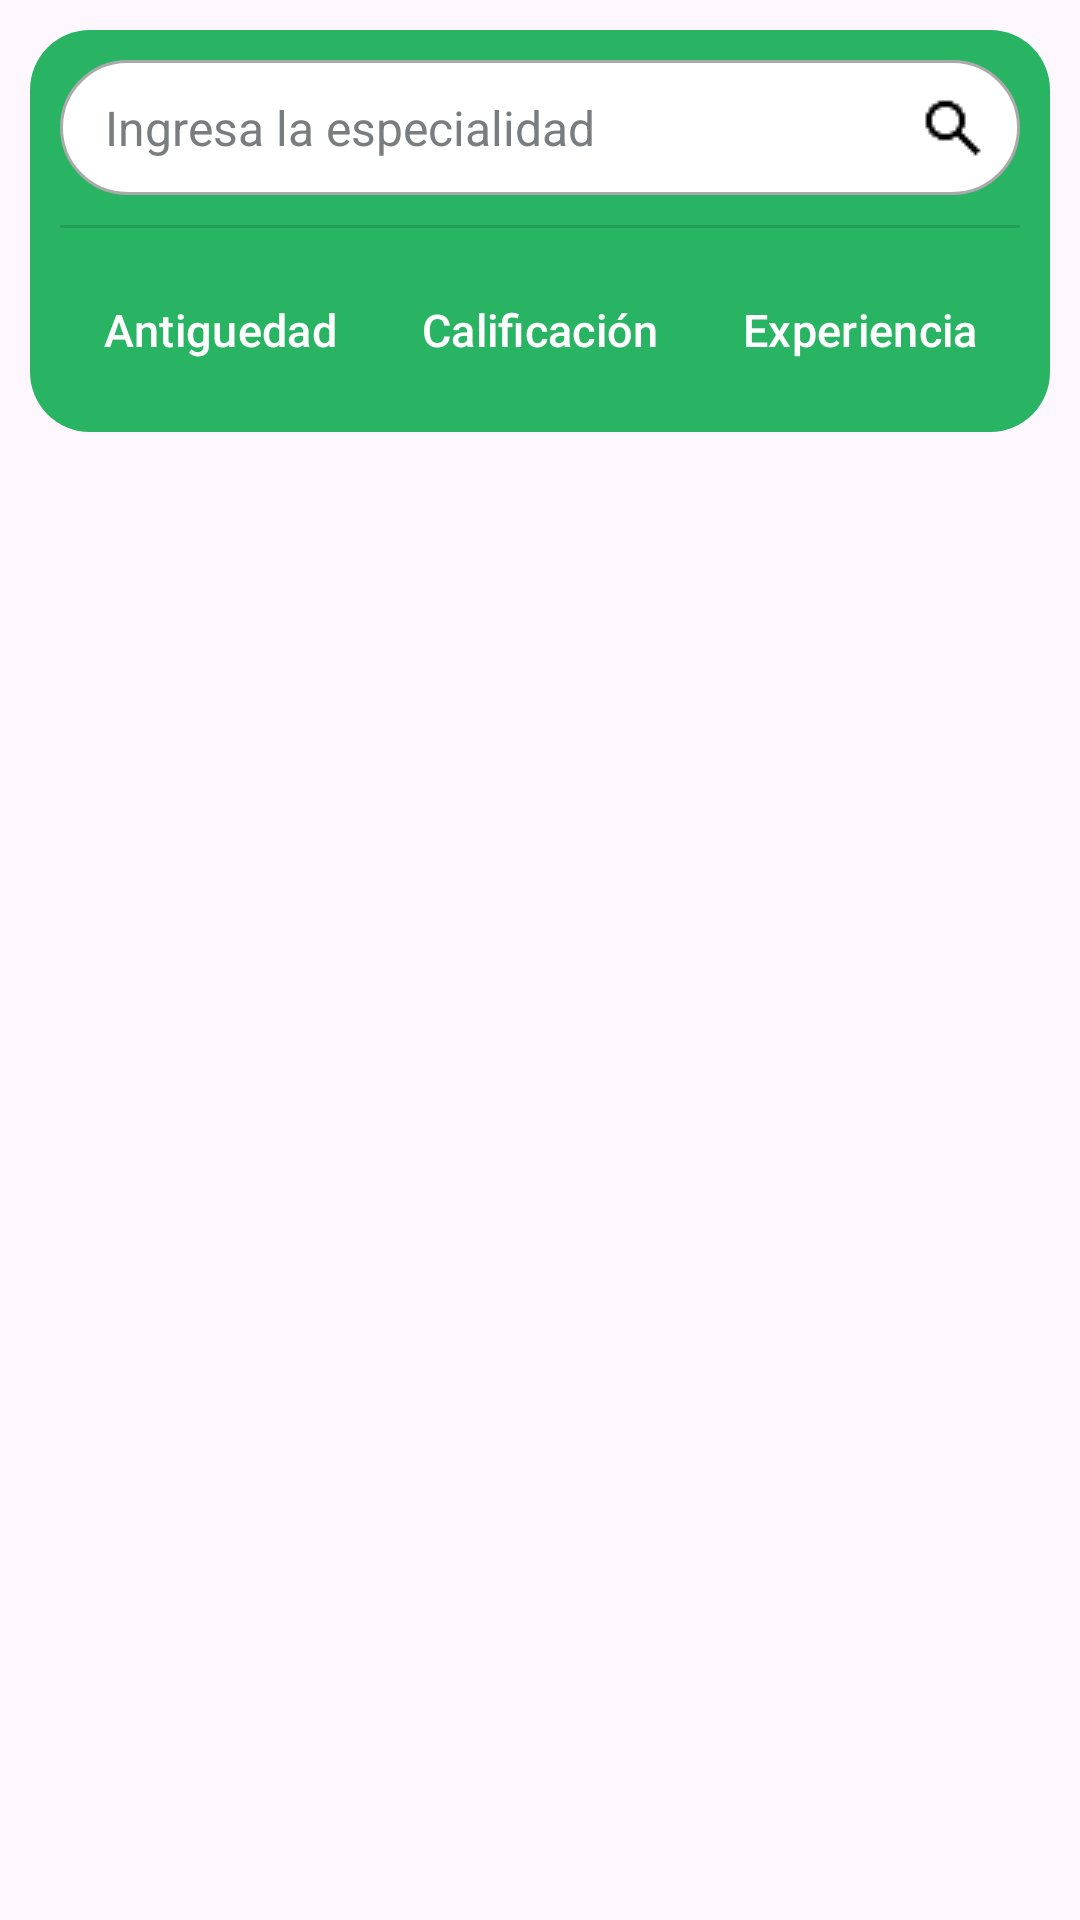

Where icons sit on this 1080x1920 app screen, as {"x1": x1, "y1": y1, "x2": x2, "y2": y2}:
buscar: {"x1": 925, "y1": 100, "x2": 981, "y2": 156}
